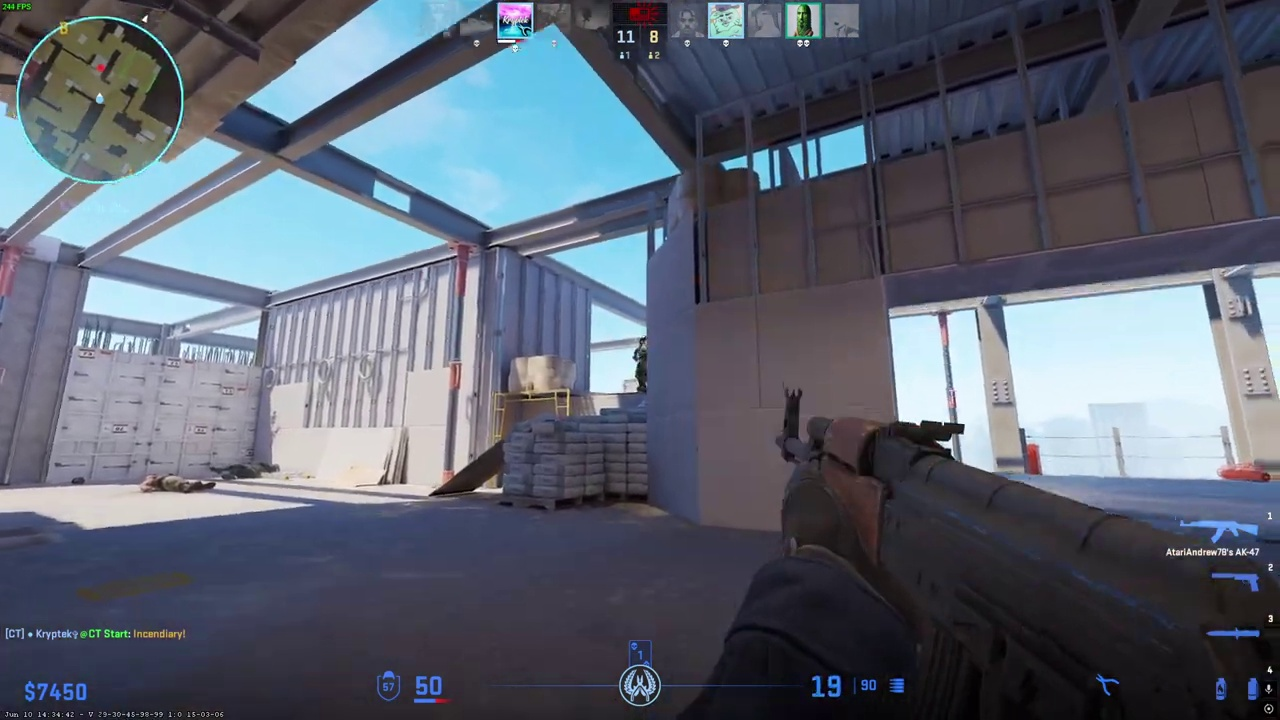CT: (633, 337, 649, 394)
